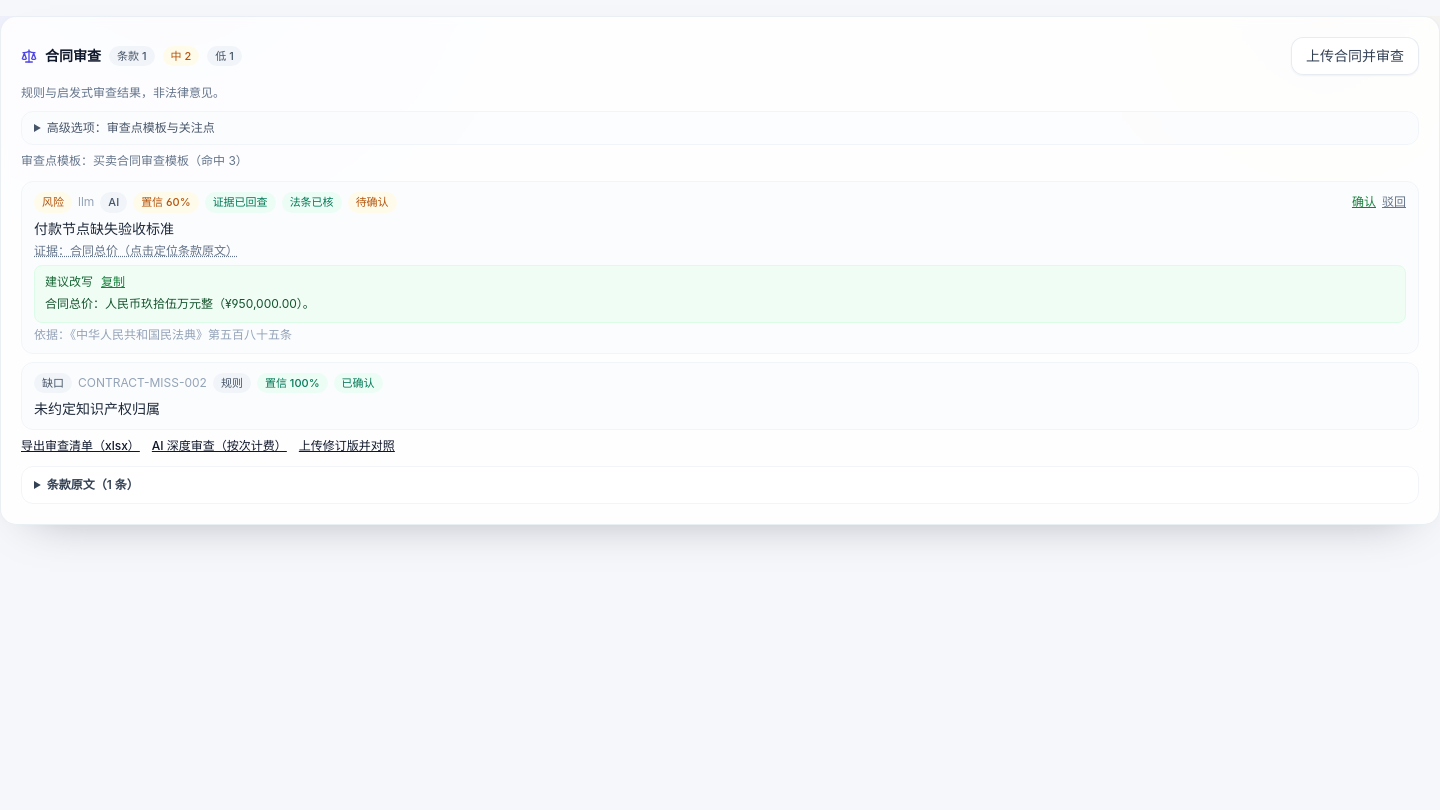
ContractReviewCard › 点击证据行自动展开条款面板并高亮摘录片段
Check: the text "付款节点缺失验收标准" is shown, box [34,220,174,236]
Step 1. Click the button "证据：合同总价（点击定位条款原文）" → (136, 250), box [34,242,238,258]
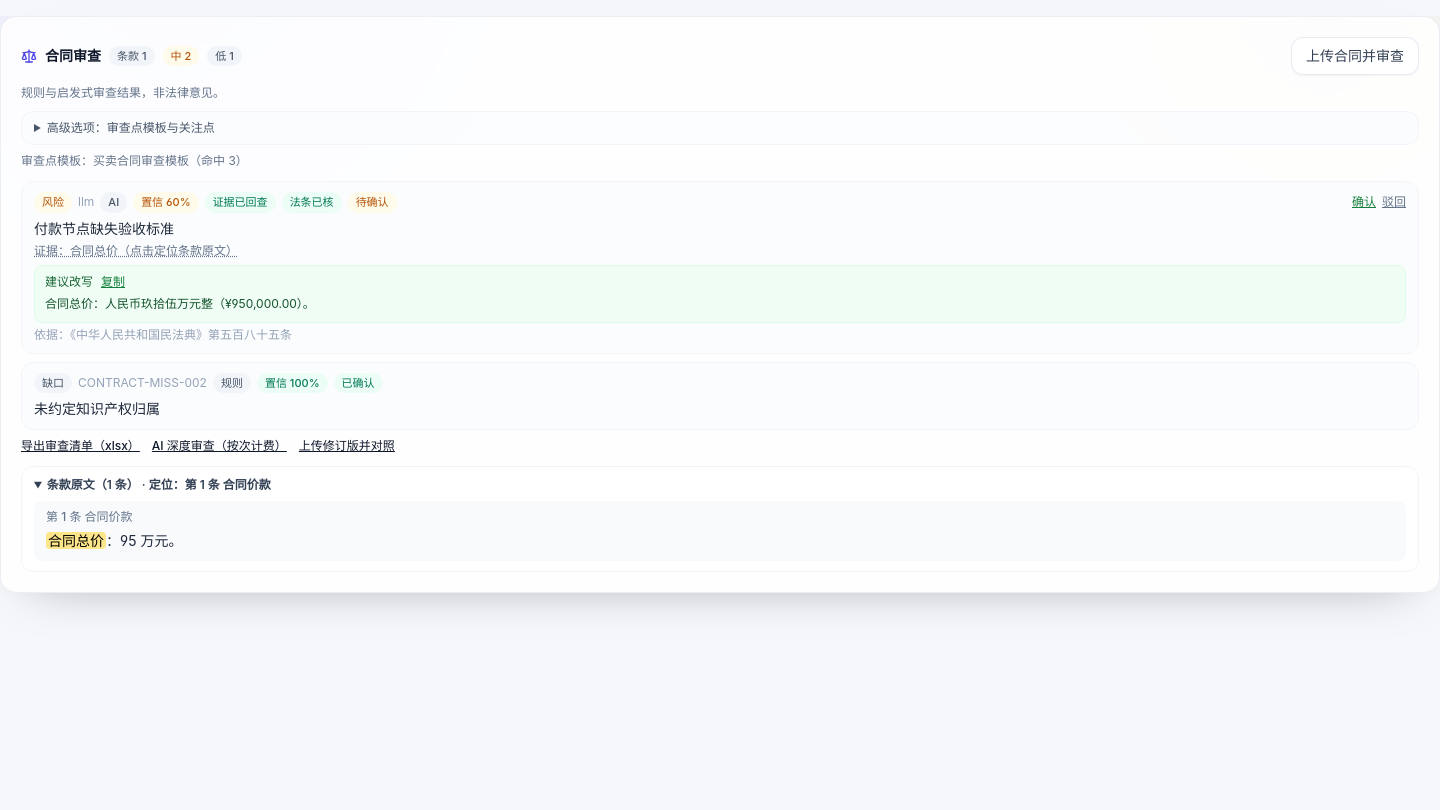
Check: the text "合同总价" is shown, box [46,532,106,549]
Check: the heading "条款原文（1 条） · 定位：第 1 条 合同价款" is shown, box [47,477,271,492]
